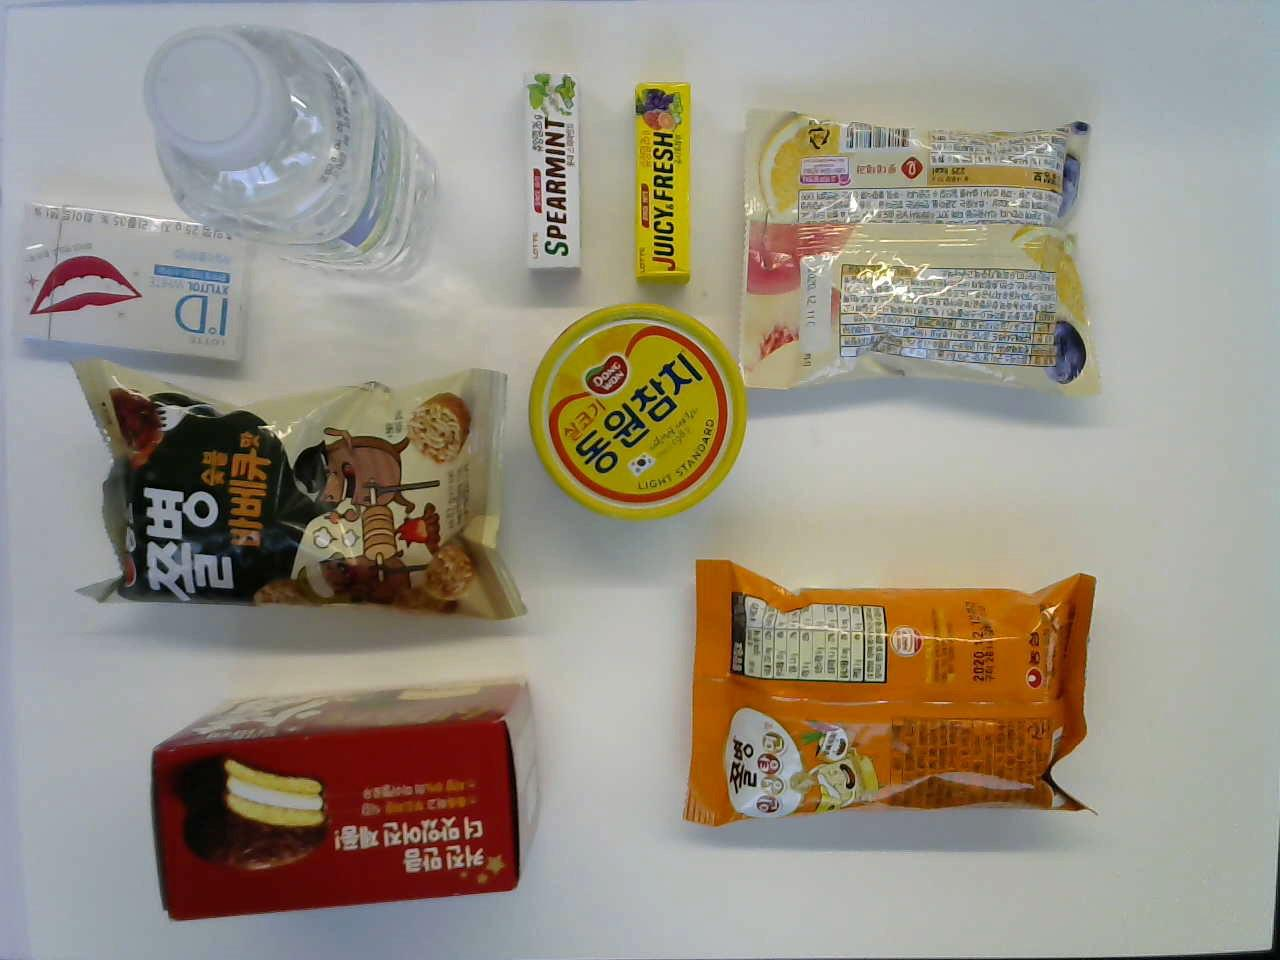ID_gum: (10, 200, 244, 371)
chocopie: (143, 677, 544, 928)
gumi_gumi: (739, 98, 1112, 419)
jjolbyung_noodle: (685, 550, 1109, 830)
jjolbyung_ori: (70, 355, 519, 623)
juicyfresh: (626, 73, 702, 287)
samdasu: (149, 20, 443, 296)
spearmint: (519, 71, 589, 273)
tuna: (513, 295, 754, 528)
